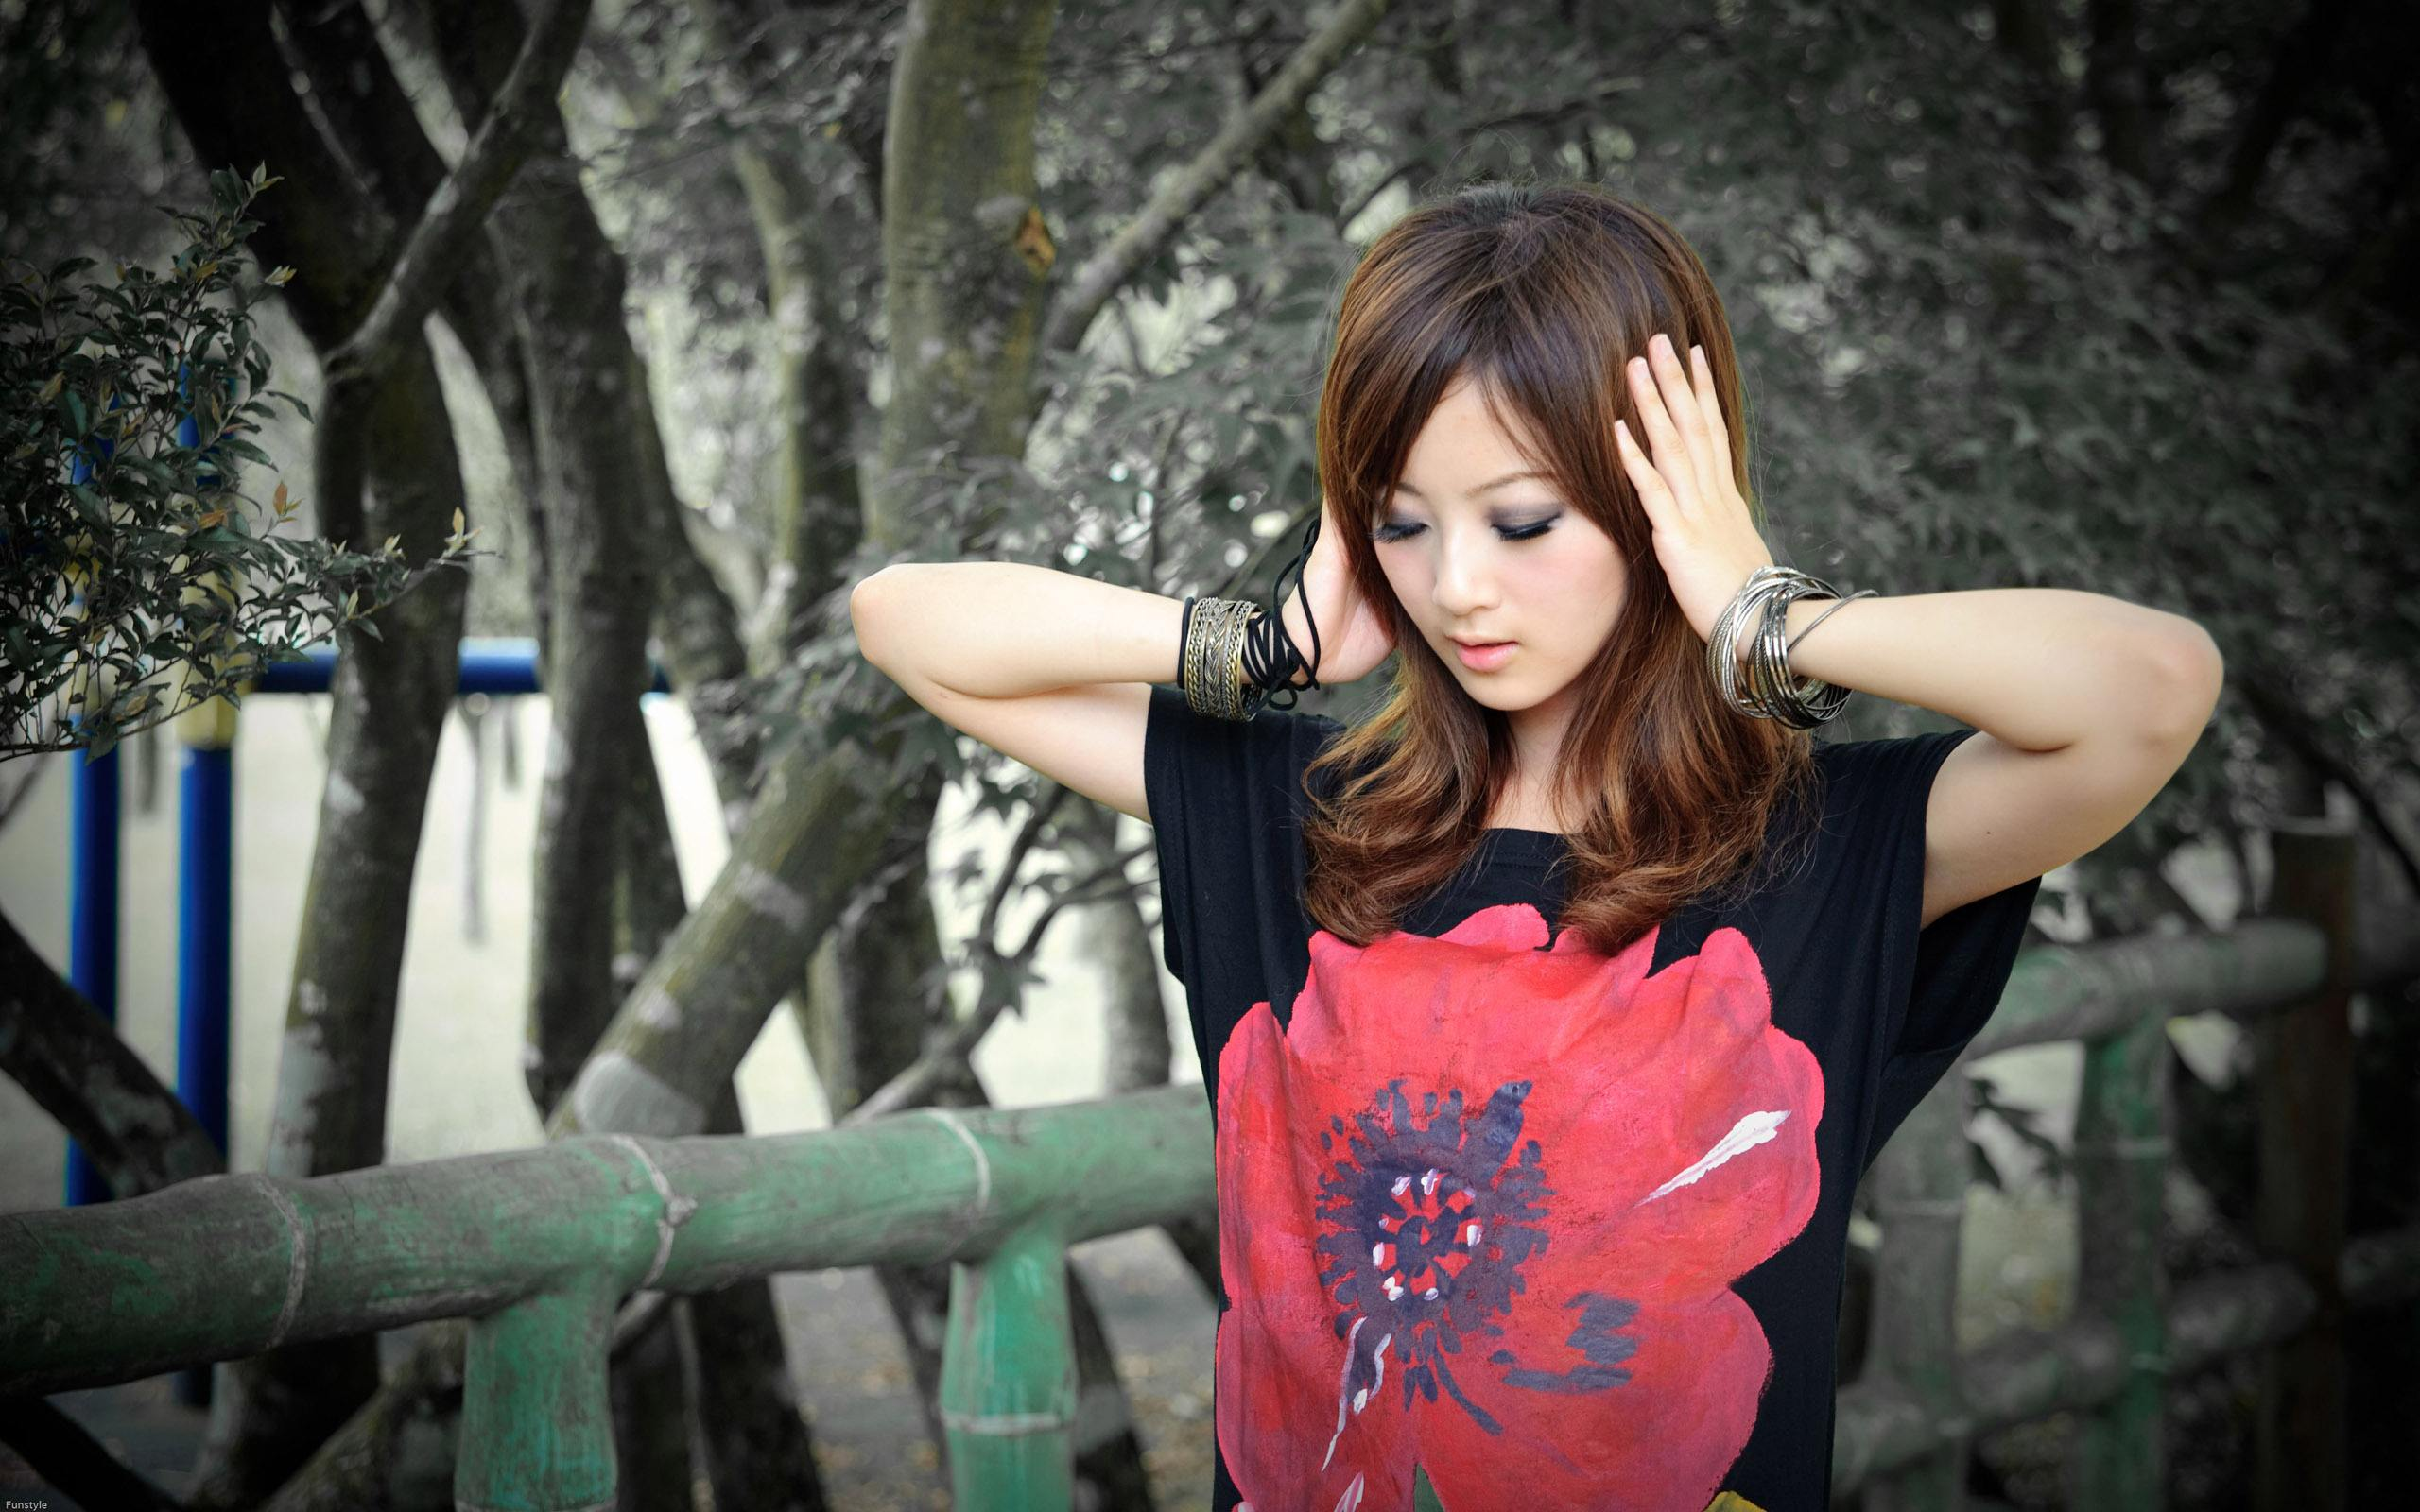person: (971, 161, 1946, 1314)
